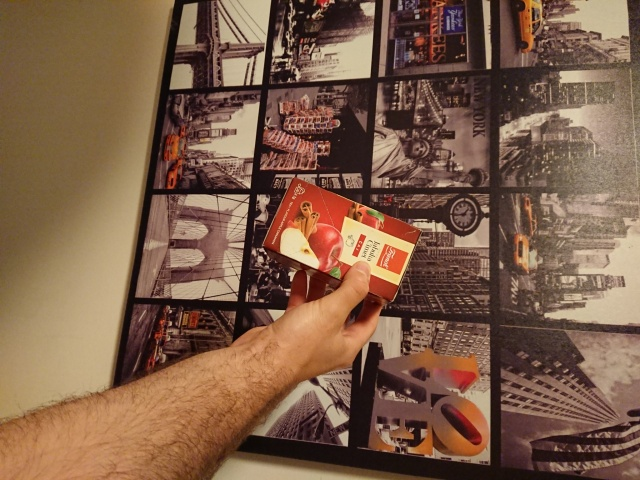Franck Apple Cinnamon Tea 60g: (258, 175, 426, 307)
